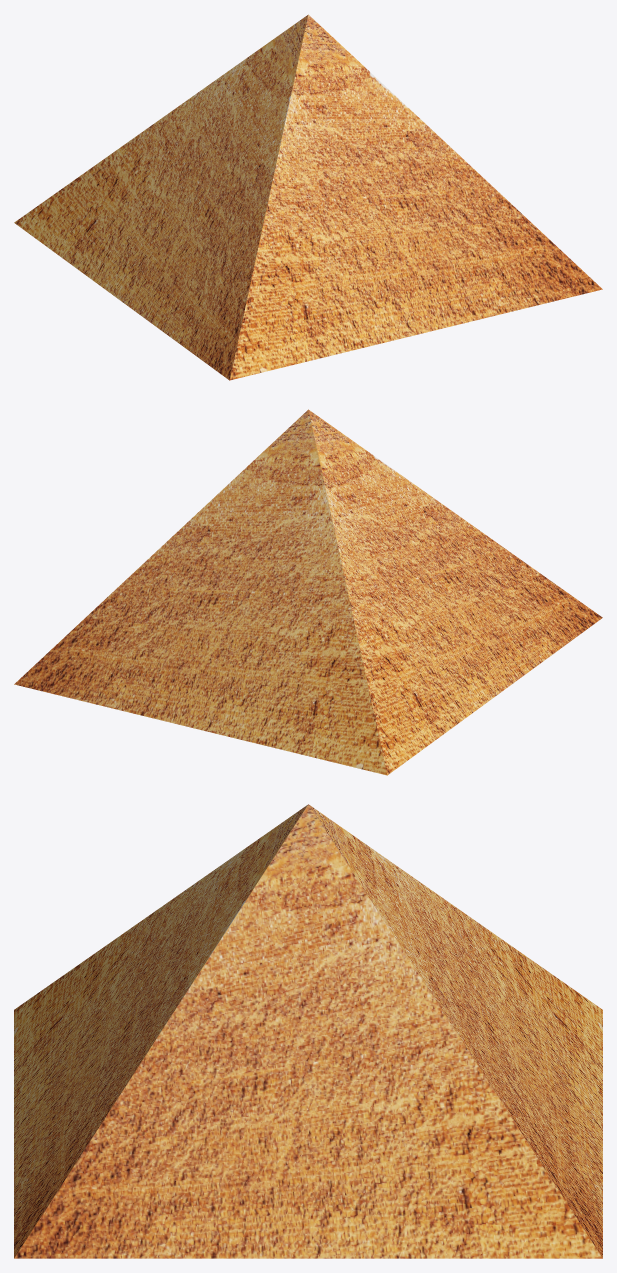
3 views of the same model, one above another, from view 1: azimuth 30°, elevation 25°; view 2: azimuth 150°, elevation 25°; view 3: azimuth 270°, elevation 25° (orthographic). The views are drawn at different scales.
Visible parts, largest first — view 1: Cone; view 2: Cone; view 3: Cone.
Boxes of the visible parts, x1,y1,x2,y2 form: Cone: (14, 14, 602, 380); Cone: (14, 409, 602, 775); Cone: (14, 804, 602, 1258).
Bounding box in the file's own units: 13.16 × 8.14 × 13.16.
1 material, 1 textured.
